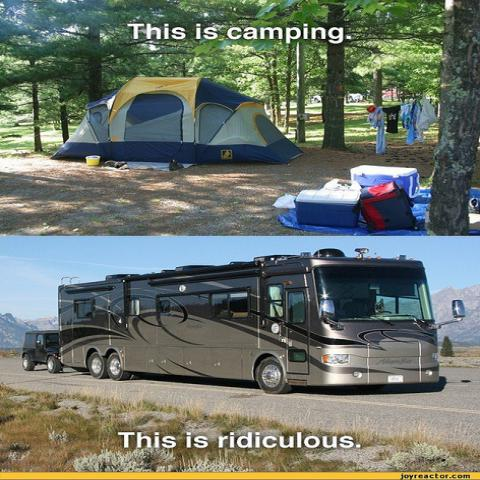bus: (54, 246, 459, 396)
car: (22, 330, 63, 374)
